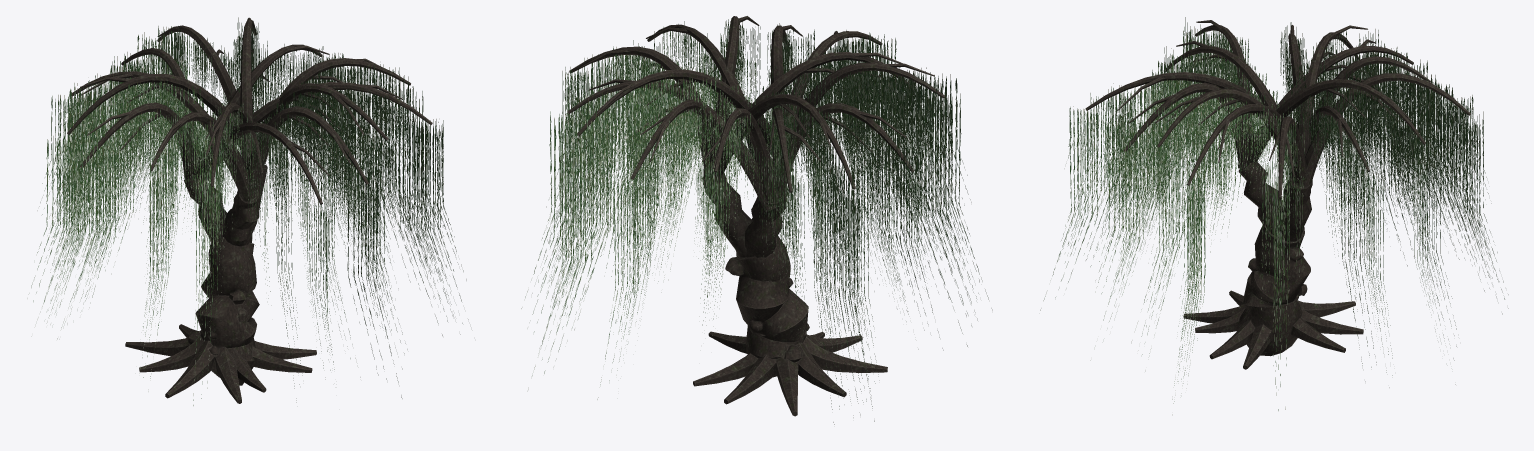
The model's file is WeepingWillow.fbx.
3 views of the same model, side by side, from view 1: azimuth 30°, elevation 25°; view 2: azimuth 150°, elevation 25°; view 3: azimuth 270°, elevation 25° (orthographic). The views are drawn at different scales.
Parts seen in each view (by area): view 1: WeepingWillow_Leaves, WeepingWillow_Main; view 2: WeepingWillow_Leaves, WeepingWillow_Main; view 3: WeepingWillow_Leaves, WeepingWillow_Main.
Part boxes in pixels (<box>): WeepingWillow_Leaves: <box>27,17,468,405</box>; WeepingWillow_Main: <box>67,17,432,403</box>; WeepingWillow_Leaves: <box>521,18,992,424</box>; WeepingWillow_Main: <box>567,16,944,416</box>; WeepingWillow_Leaves: <box>1040,17,1508,415</box>; WeepingWillow_Main: <box>1085,20,1470,369</box>.
Bounding box in the file's own units: 1856 × 1339 × 1983.
